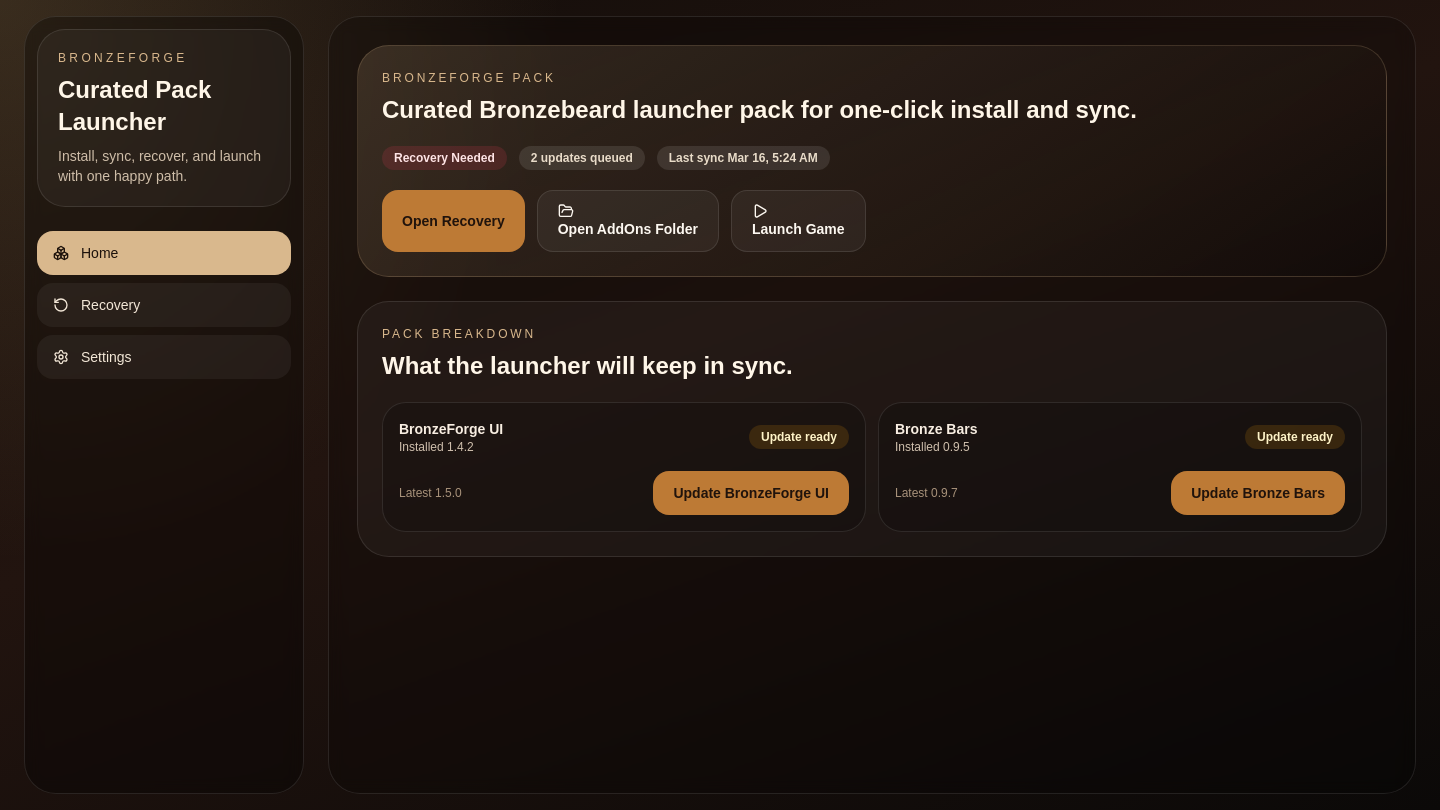
Test: clicking Open Recovery navigates to the recovery screen
Click the button "Open Recovery": (453, 221) left=382, top=190, right=525, bottom=252
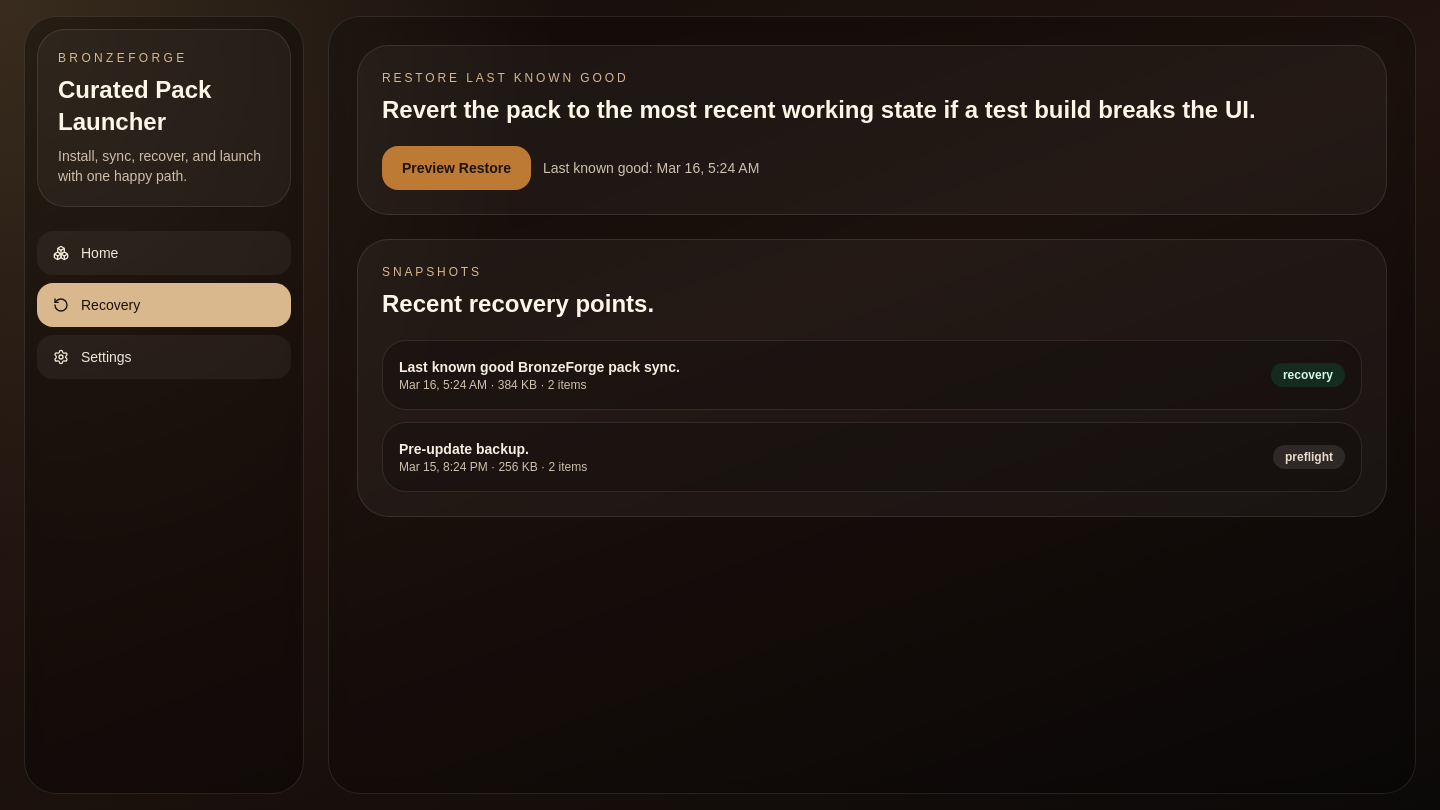
Now the button "Preview Restore" is shown, box left=382, top=146, right=531, bottom=190
